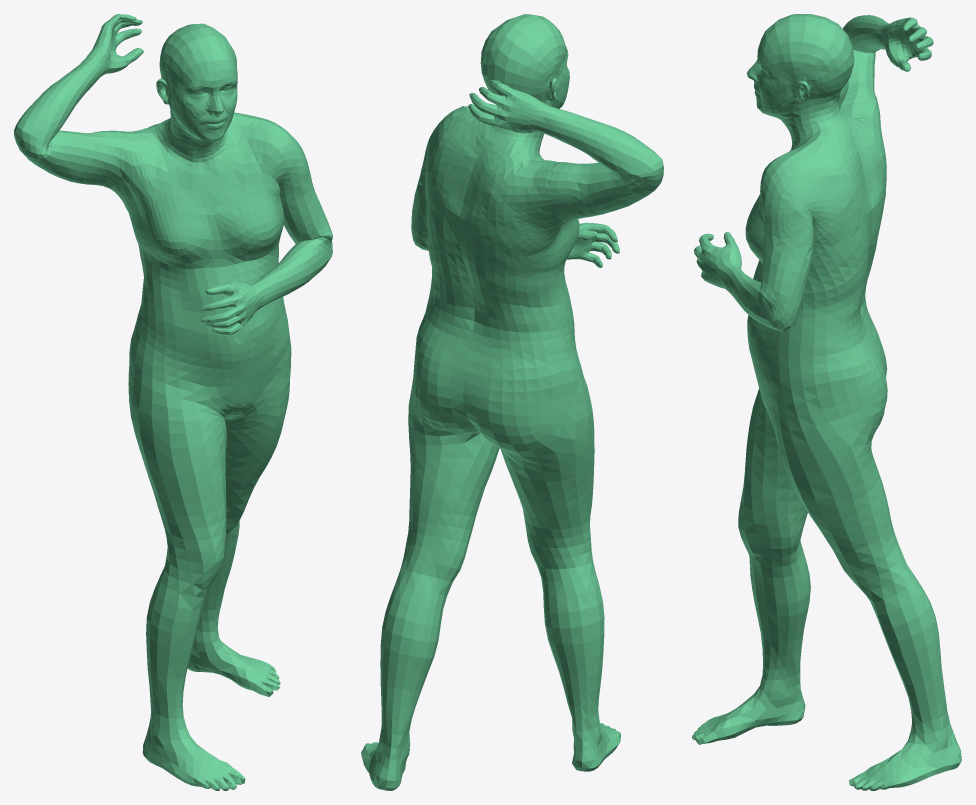
File: hwc_free_03.glb
3 views of the same model, side by side, from view 1: azimuth 30°, elevation 25°; view 2: azimuth 150°, elevation 25°; view 3: azimuth 270°, elevation 25° (orthographic). The views are drawn at different scales.
Parts seen in each view (by area): view 1: hwc_free; view 2: hwc_free; view 3: hwc_free.
Part boxes in pixels (left/top/right/bottom): hwc_free: left=14, top=14, right=332, bottom=790; hwc_free: left=361, top=14, right=663, bottom=790; hwc_free: left=692, top=14, right=961, bottom=790.
Bounding box in the file's own units: 0.6825 × 1.69 × 0.5648.
